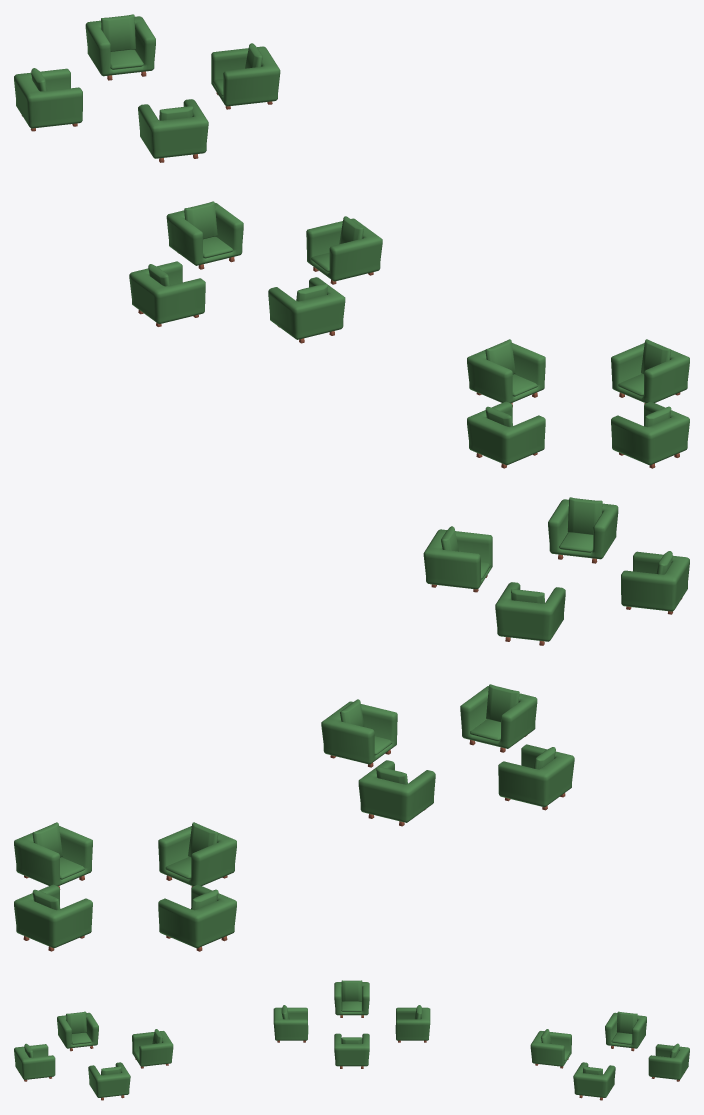
The model's file is Chairs.glb.
The picture shows the model from 3 angles, top to bottom: view 1: azimuth 30°, elevation 25°; view 2: azimuth 150°, elevation 25°; view 3: azimuth 270°, elevation 25°; orthographic projection. The views are drawn at different scales.
Visible parts, largest first — view 1: Chairs; view 2: Chairs; view 3: Chairs.
Part boxes in pixels (x1=…): Chairs: x1=14, y1=14, x2=689, y2=468; Chairs: x1=14, y1=497, x2=689, y2=951; Chairs: x1=14, y1=980, x2=689, y2=1100.
Size of what is drawn, in the model's own units: 9.42 by 1.28 by 27.48.
Materials: 1 (1 with a texture image).
